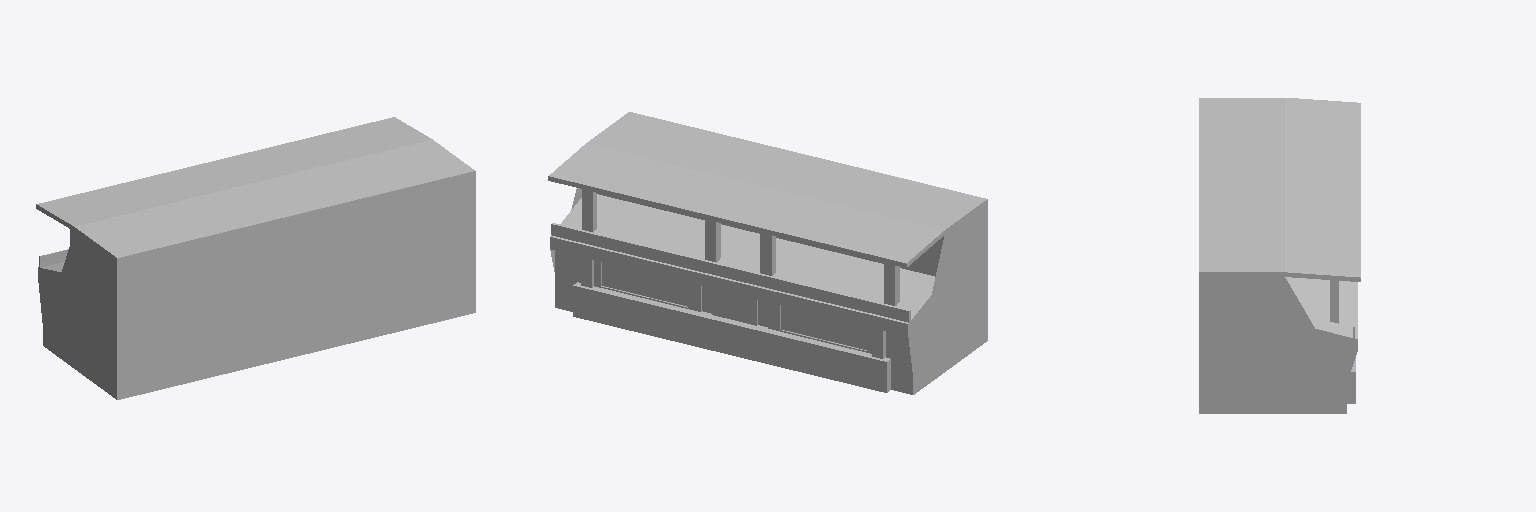
Rendered from Tribuene_big.obj.
The picture shows the model from 3 angles: view 1: azimuth 30°, elevation 25°; view 2: azimuth 150°, elevation 25°; view 3: azimuth 270°, elevation 25°; orthographic projection.
Parts seen in each view (by area): view 1: Tribuene_big_Plane.001; view 2: Tribuene_big_Plane.001; view 3: Tribuene_big_Plane.001.
Part boxes in pixels (left/top/right/bottom): Tribuene_big_Plane.001: left=36, top=117, right=475, bottom=399; Tribuene_big_Plane.001: left=548, top=112, right=987, bottom=394; Tribuene_big_Plane.001: left=1199, top=98, right=1360, bottom=413.
Size of the model in its own units: 12 by 4.55 by 4.7.